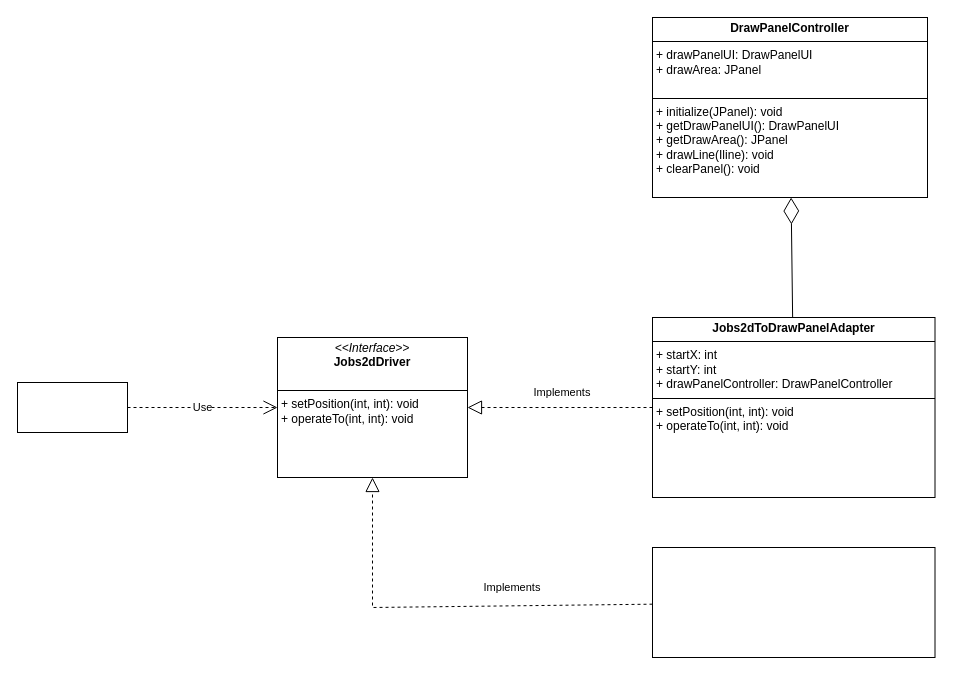
Image size: 953x675. Some labels were removed from this diagram. The shapes that lost their labels are listed below. From the top down, each one's centre as x and y in pixels, then its label:
point (72, 407): Client
point (793, 602): StubDriver + setPosition(int, int): void + operateTo(int, int): void
